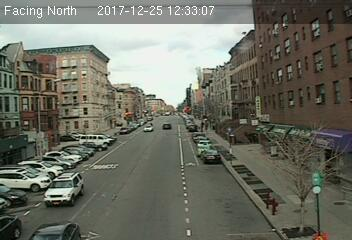car: (40, 172, 87, 209), (201, 148, 221, 164), (162, 123, 172, 129)
